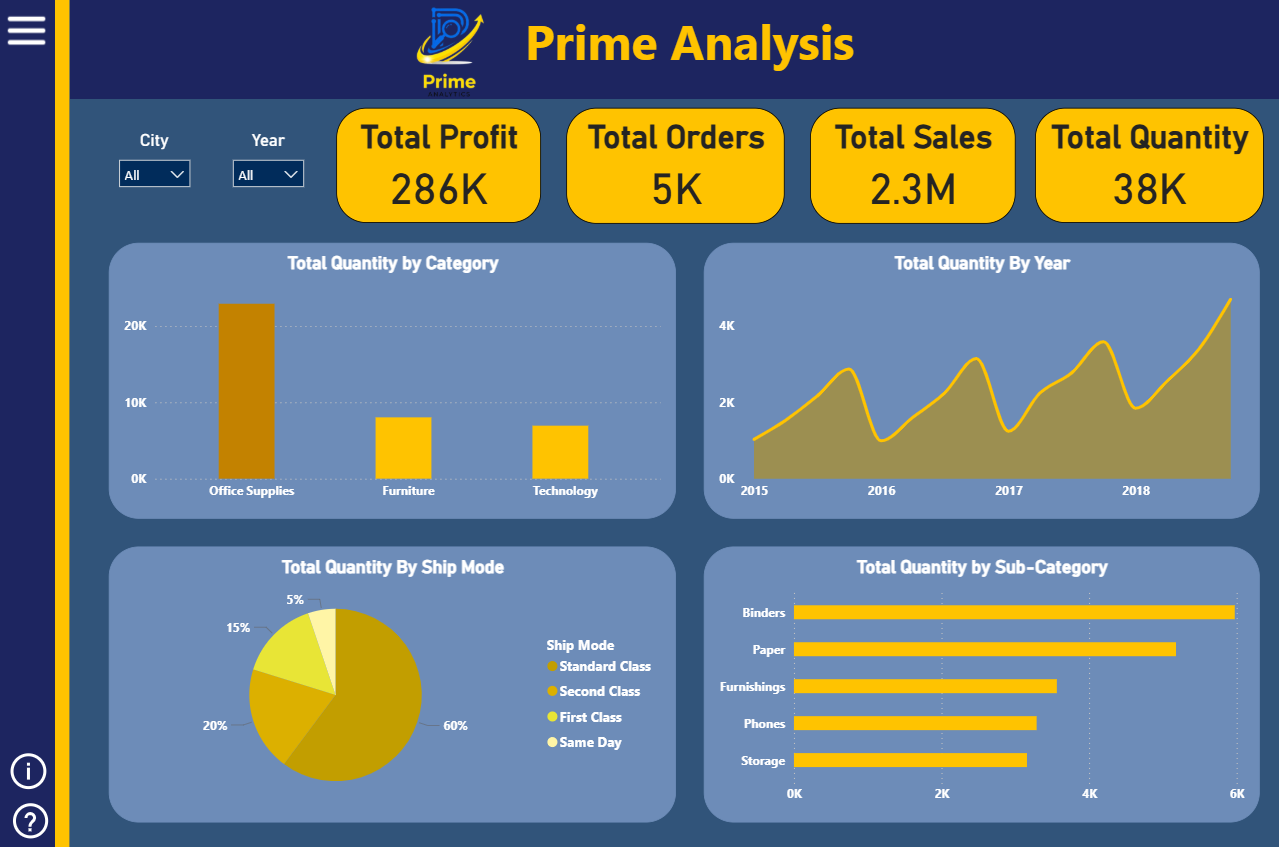

This screenshot's page, from the dashboard's own definition file:
{"tool":"powerbi","page":{"name":"Quantity","canvas":[1280,850],"ordinal":3},"visuals":[{"type":"shape","box":[0,0,55.7,850],"z":6000},{"type":"shape","box":[70,0,1210,100],"z":7000},{"type":"shape","box":[55.4,0,14.6,850],"z":8000},{"type":"textbox","box":[520,4.3,462.9,91.4],"z":9000},{"type":"card","title":"Total Quantity","fields":{"Values":["DaxMeasure.Total_Quantity"]},"box":[1035,108.8,228.8,115],"z":14000},{"type":"card","title":"Total Sales","fields":{"Values":["DaxMeasure.Total_Sales"]},"box":[810,108.6,205.7,115.7],"z":15000},{"type":"card","title":"Total Orders","fields":{"Values":["DaxMeasure.Total_Orders"]},"box":[565.7,108.6,218.6,115.7],"z":16000},{"type":"card","title":"Total Profit","fields":{"Values":["DaxMeasure.Total_Profit"]},"box":[336.2,108.8,205,115],"z":17000},{"type":"slicer","title":"City","fields":{"Values":["CustomerDim.City"]},"box":[108.8,131.2,91.2,70],"z":18000},{"type":"slicer","title":"Year","fields":{"Values":["DateDim.Order Date.Variation.Date Hierarchy.Year"]},"box":[222.5,131.2,91.2,70],"z":19000},{"type":"image","box":[393.3,0,112.2,103.3],"z":20000},{"type":"lineChart","title":"Total Quantity By Year","fields":{"Y":["DaxMeasure.Total_Quantity"],"Category":["DateDim.Order Date.Variation.Date Hierarchy.Year","DateDim.Order Date.Variation.Date Hierarchy.Quarter","DateDim.Order Date.Variation.Date Hierarchy.Month","DateDim.Order Date.Variation.Date Hierarchy.Day"]},"box":[704.3,244.3,555.7,275.7],"z":21000},{"type":"columnChart","title":"Total Quantity by Category","fields":{"Y":["DaxMeasure.Total_Quantity"],"Category":["ProductDim.Category"]},"box":[108.6,244.3,567.1,275.7],"z":22000},{"type":"barChart","title":"Total Quantity by Sub-Category","fields":{"Category":["ProductDim.Sub-Category"],"Y":["DaxMeasure.Total_Quantity"]},"box":[704.3,547.1,555.7,275.7],"z":23000},{"type":"pieChart","title":"Total Quantity By Ship Mode","fields":{"Category":["Sales.Ship Mode"],"Y":["DaxMeasure.Total_Quantity"]},"box":[108.6,547.1,567.1,275.7],"z":24000},{"type":"actionButton","title":"Help","box":[6.9,799.2,47.7,46.2],"z":24062},{"type":"actionButton","title":"Info","box":[5.4,748.5,49.2,46.9],"z":24125},{"type":"actionButton","title":"Menu","box":[4.3,8.6,51.4,45.7],"z":24500}]}

Visuals, with their boxes in screenshot pixels (x1, y1, x2, y2), scaled from the page's 1280x850 canvas onto the 1279x847 screenshot:
shape: left=0, top=0, right=56, bottom=846
shape: left=70, top=0, right=1278, bottom=100
shape: left=55, top=0, right=70, bottom=846
textbox: left=520, top=4, right=982, bottom=95
"Total Quantity" card: left=1034, top=108, right=1263, bottom=223
"Total Sales" card: left=809, top=108, right=1015, bottom=224
"Total Orders" card: left=565, top=108, right=784, bottom=224
"Total Profit" card: left=336, top=108, right=541, bottom=223
"City" slicer: left=109, top=131, right=200, bottom=200
"Year" slicer: left=222, top=131, right=313, bottom=200
image: left=393, top=0, right=505, bottom=103
"Total Quantity By Year" lineChart: left=704, top=243, right=1259, bottom=518
"Total Quantity by Category" columnChart: left=109, top=243, right=675, bottom=518
"Total Quantity by Sub-Category" barChart: left=704, top=545, right=1259, bottom=820
"Total Quantity By Ship Mode" pieChart: left=109, top=545, right=675, bottom=820
"Help" actionButton: left=7, top=796, right=55, bottom=842
"Info" actionButton: left=5, top=746, right=55, bottom=793
"Menu" actionButton: left=4, top=9, right=56, bottom=54
